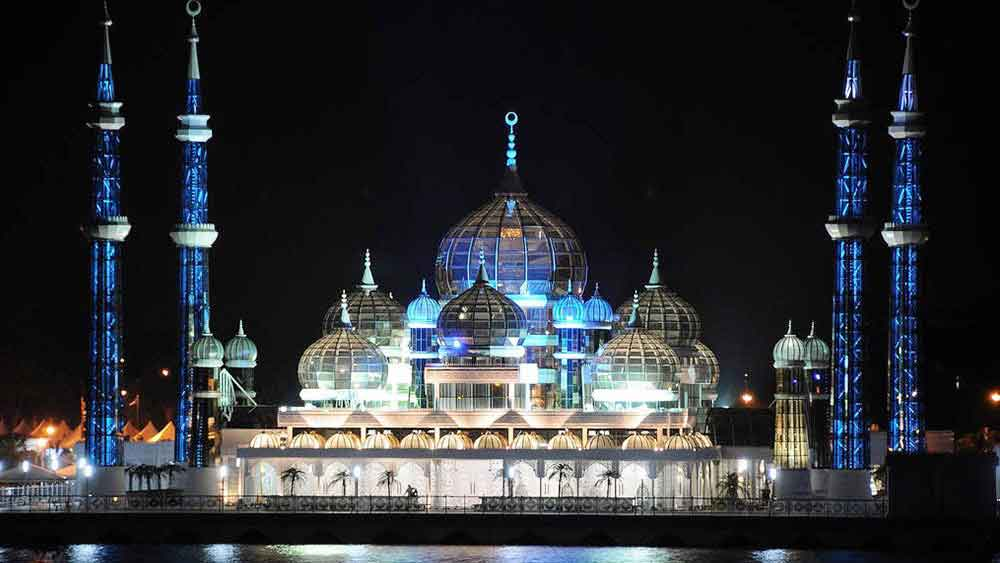Mosque: (69, 7, 920, 505)
